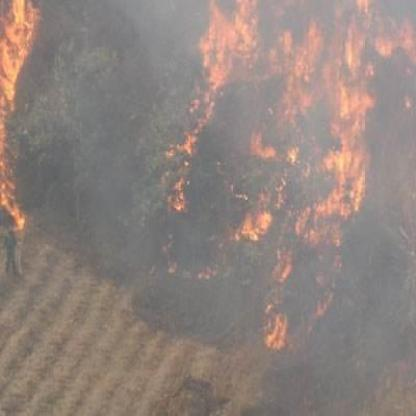fire: (164, 1, 403, 355), (0, 0, 33, 243)
